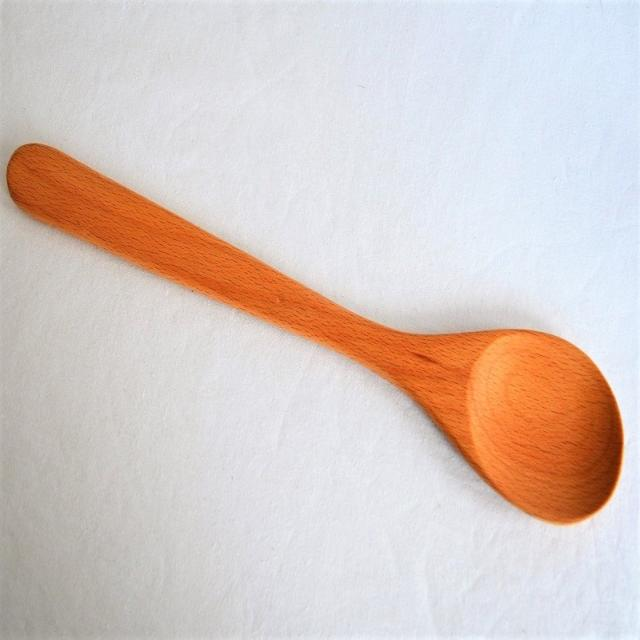spoon: (5, 116, 635, 540)
